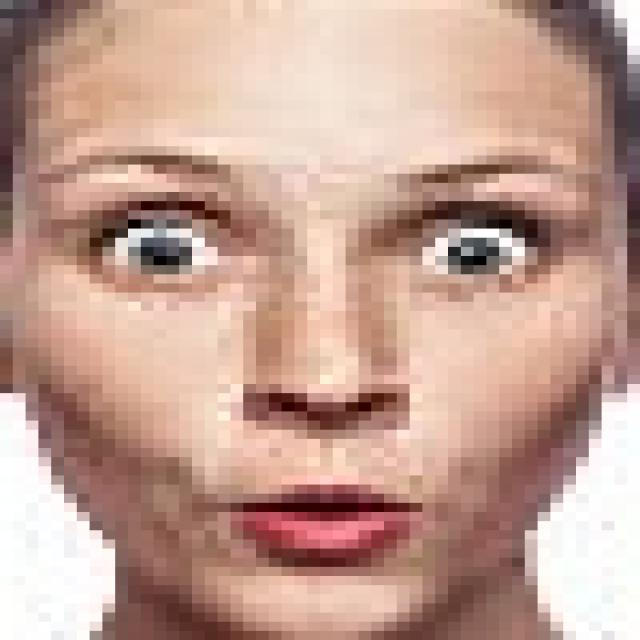Anxiety: (13, 2, 626, 631)
